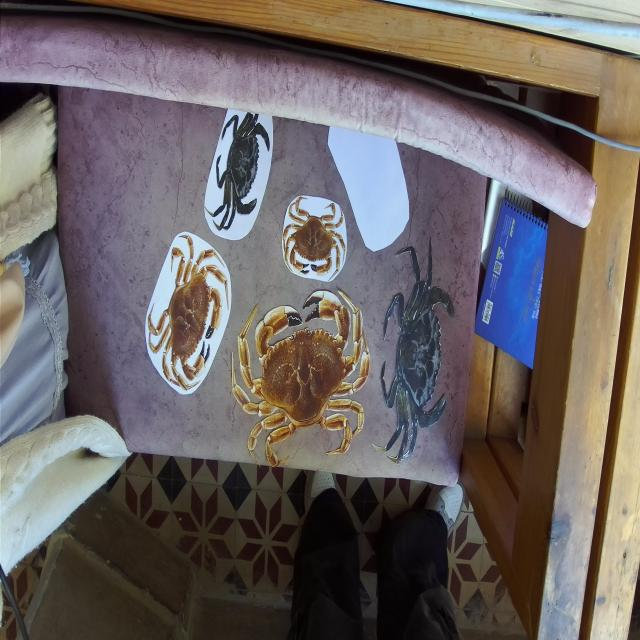European_Green_Crab: (370, 219, 463, 478), (202, 79, 279, 251)
